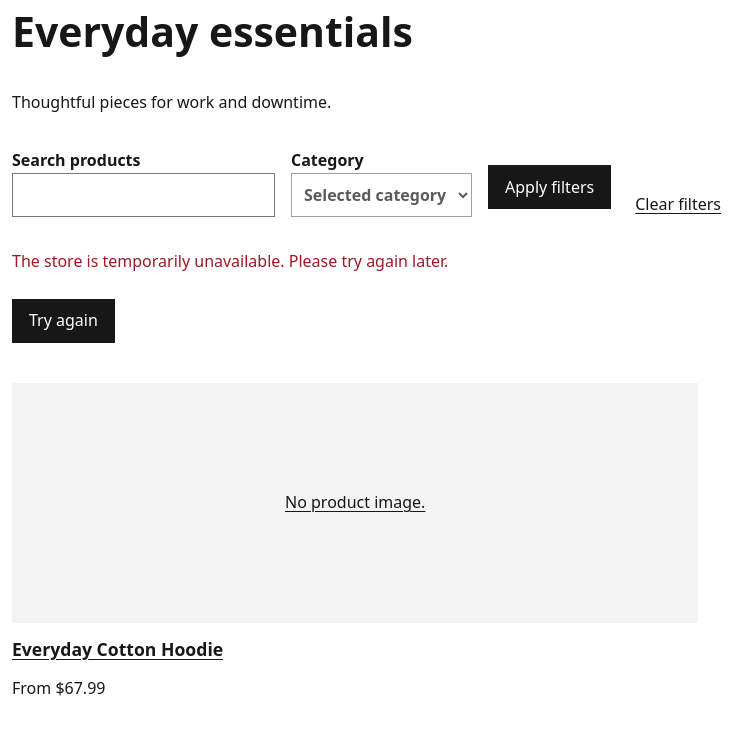
Test: product list category filter › recovers the category list with Try again and keeps the URL's category selected
This screenshot has width=738, height=735.
Expected: the message "The store is temporarily unavailable. Please try again later. Try again" is shown, [12, 250, 448, 343]
Click the button "Try again": (63, 321) [12, 299, 115, 343]
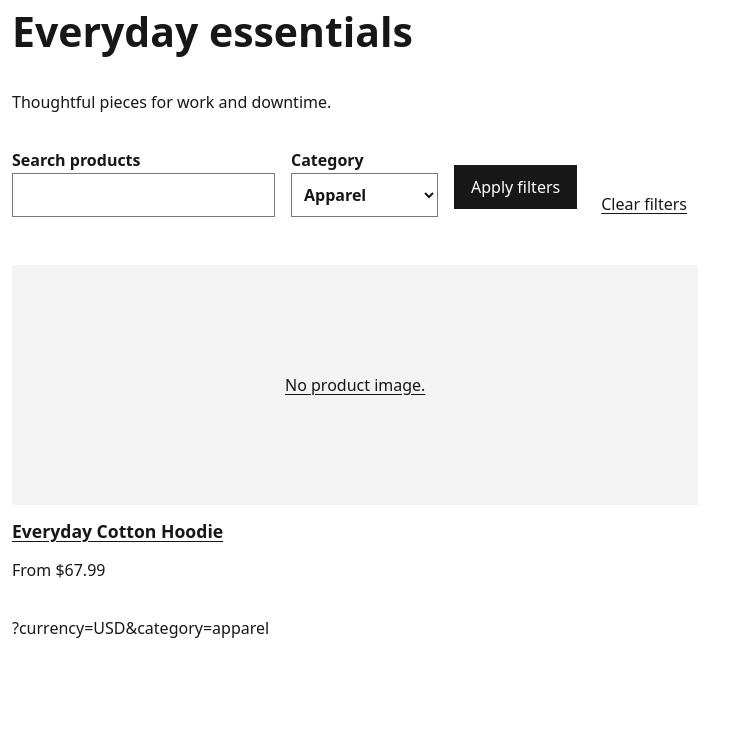
Expected: the dropdown labelled "Category" is enabled, [291, 173, 438, 217]
Expected: the dropdown labelled "Category" shows "Apparel", [291, 173, 438, 217]
Expected: the message "The store is temporarily unavailable. Please try again later. Try again" is gone
